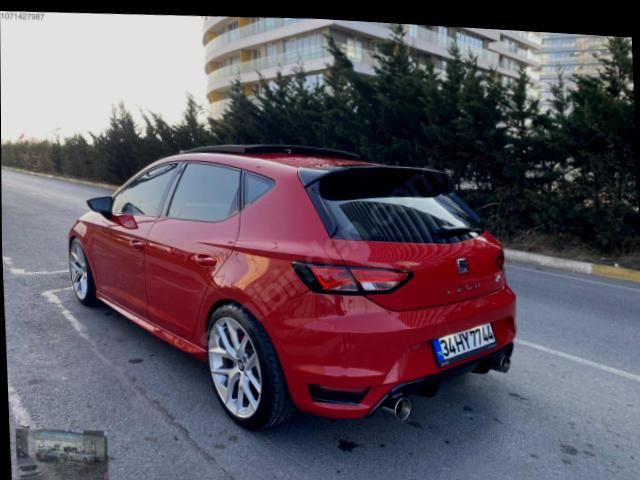plaka: (433, 323, 496, 366)
